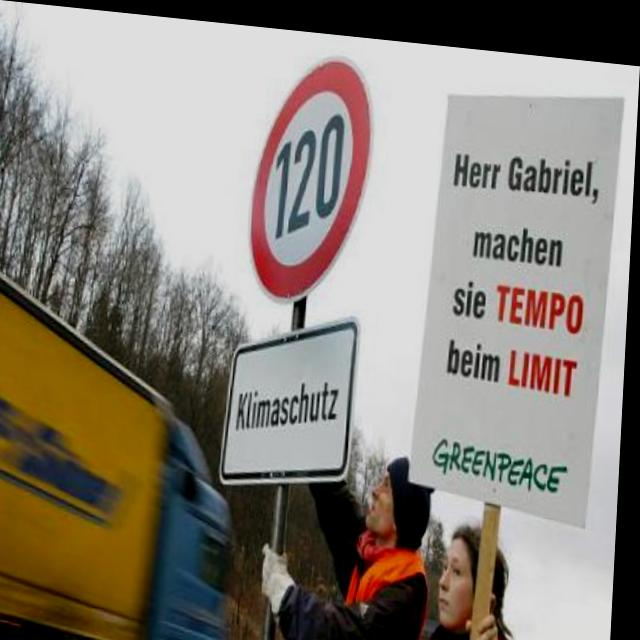limit120: (239, 34, 385, 308)
